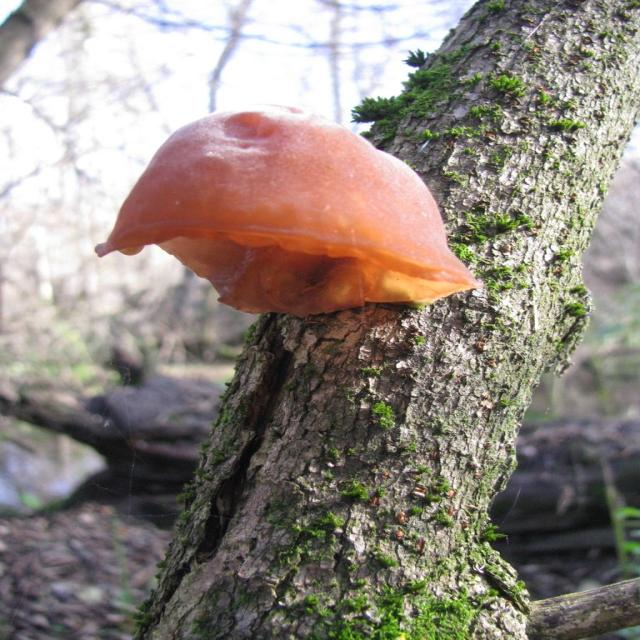Matang: (92, 99, 485, 321)
